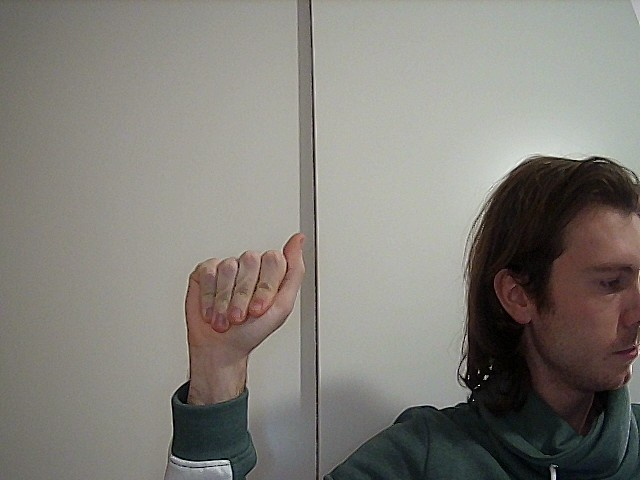a: (169, 224, 318, 357)
